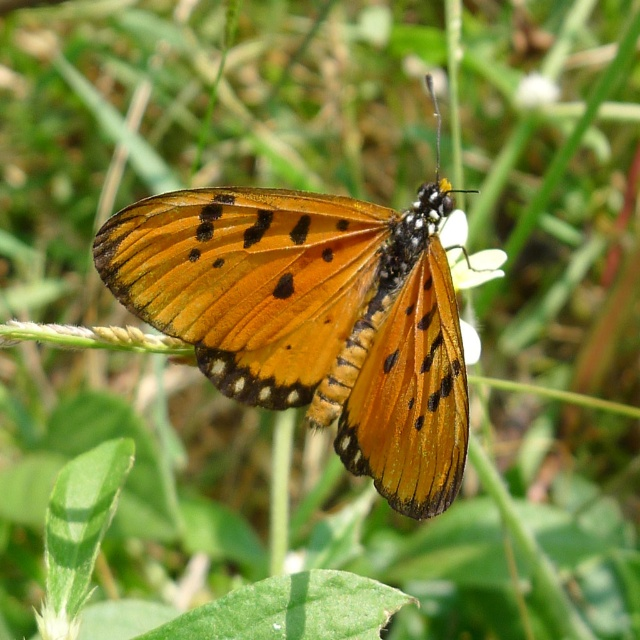Butterfly: (91, 70, 507, 520)
